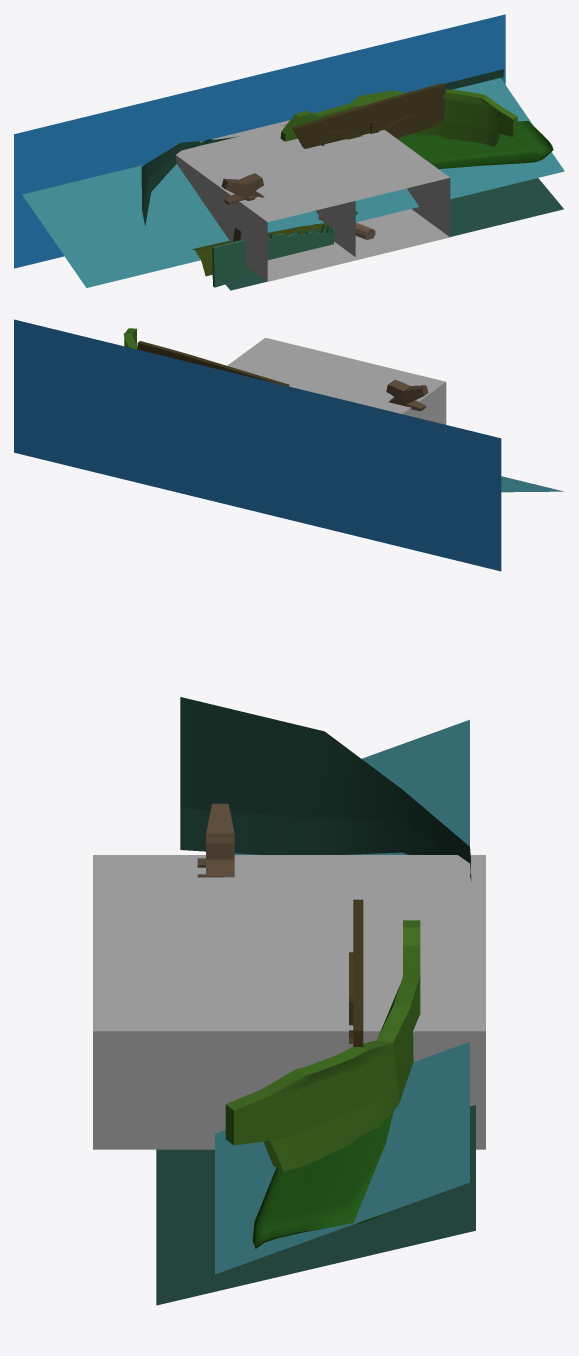
File: Blockout.fbx
3 renders of one model, top to bottom at view 1: azimuth 30°, elevation 25°; view 2: azimuth 150°, elevation 25°; view 3: azimuth 270°, elevation 25°, orthographic. The views are drawn at different scales.
Parts seen in each view (by area): view 1: Sky_Clouds, CameraBox, Water_Surface, RightFarTrees, Live_Oak_Foliage, Underwater_Ground, Right_Shore, Close_Bushes, Far_Shore, Separator_PLane, Cabbage_Palm_Foliage, Left_Shore (+1 smaller); view 2: Sky_Clouds, CameraBox, Live_Oak_Foliage, Cabbage_Palm_Foliage, Water_Surface; view 3: CameraBox, Far_Shore, Water_Surface, Underwater_Ground, RightFarTrees, Right_Shore, Cabbage_Palm_Foliage, Live_Oak_Foliage.
Part boxes in pixels (x1,y1,x2,y2): Sky_Clouds: [14, 14, 505, 268]; CameraBox: [175, 120, 450, 281]; Water_Surface: [22, 78, 564, 287]; RightFarTrees: [280, 89, 517, 146]; Live_Oak_Foliage: [292, 83, 445, 148]; Underwater_Ground: [224, 178, 563, 290]; Right_Shore: [397, 121, 553, 169]; Close_Bushes: [212, 211, 357, 287]; Far_Shore: [141, 69, 503, 225]; Separator_PLane: [316, 201, 355, 256]; Cabbage_Palm_Foliage: [221, 173, 263, 204]; Left_Shore: [192, 223, 330, 276]; Sky_Clouds: [14, 319, 501, 571]; CameraBox: [227, 337, 446, 424]; Live_Oak_Foliage: [137, 341, 289, 386]; Cabbage_Palm_Foliage: [386, 380, 428, 411]; Water_Surface: [501, 476, 563, 492]; CameraBox: [93, 855, 485, 1149]; Far_Shore: [180, 697, 471, 880]; Water_Surface: [215, 719, 469, 1274]; Underwater_Ground: [156, 1105, 475, 1305]; RightFarTrees: [225, 920, 420, 1171]; Right_Shore: [252, 1111, 393, 1248]; Cabbage_Palm_Foliage: [206, 803, 234, 877]; Live_Oak_Foliage: [353, 899, 363, 1047].
Size of the model in its own units: 586 by 153 by 205.
